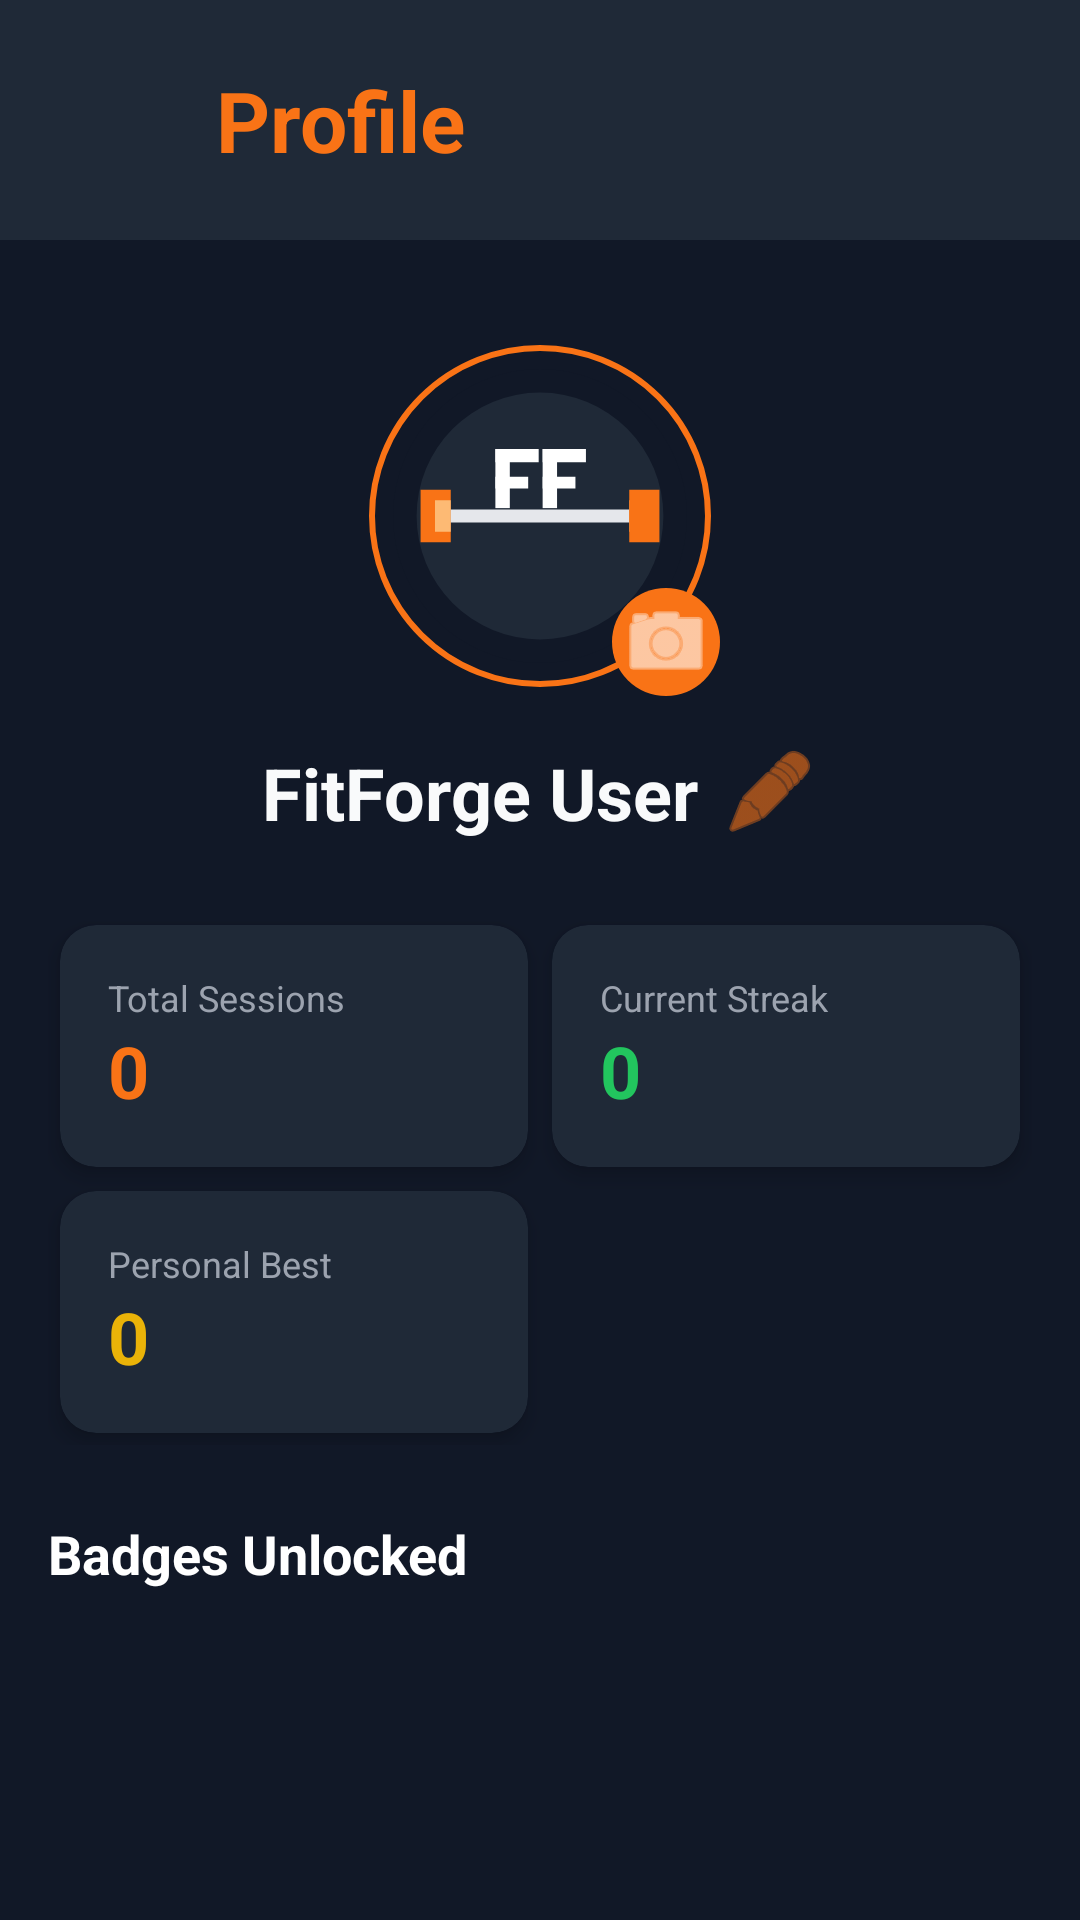

Where icons sit on this 1080*1920 app screen, as [left=x1, top=y1, right=x2, bottom=y2]:
camera: [left=612, top=588, right=720, bottom=696]
edit: [left=729, top=751, right=810, bottom=832]
